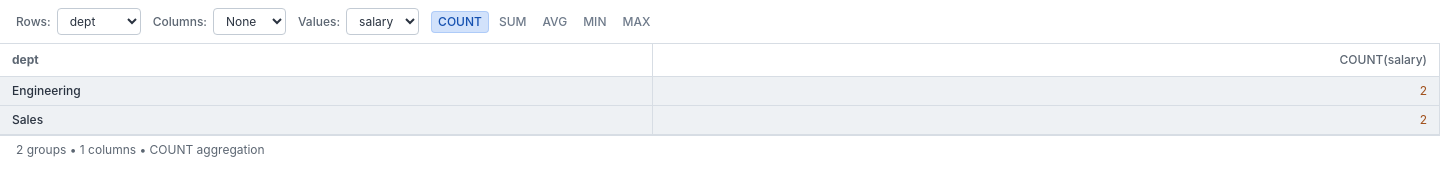
Test: PivotTable › clicking SUM button changes aggregation
What coordinates should you click on to do the following:
click the button "SUM"
I would click on:
 (513, 22)
Its box is [493, 12, 532, 32].
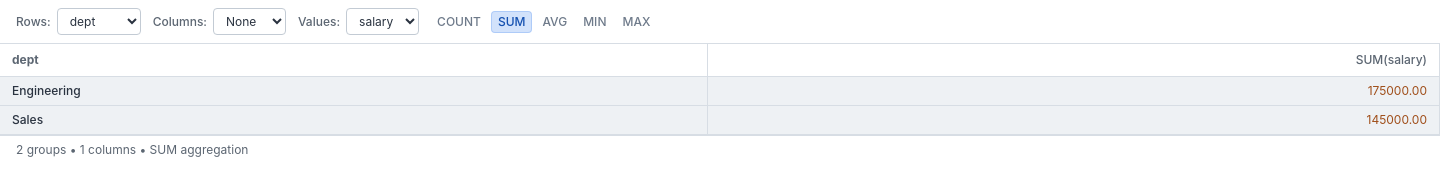
Expected: the text "SUM aggregation" is shown, [16, 142, 248, 157]
